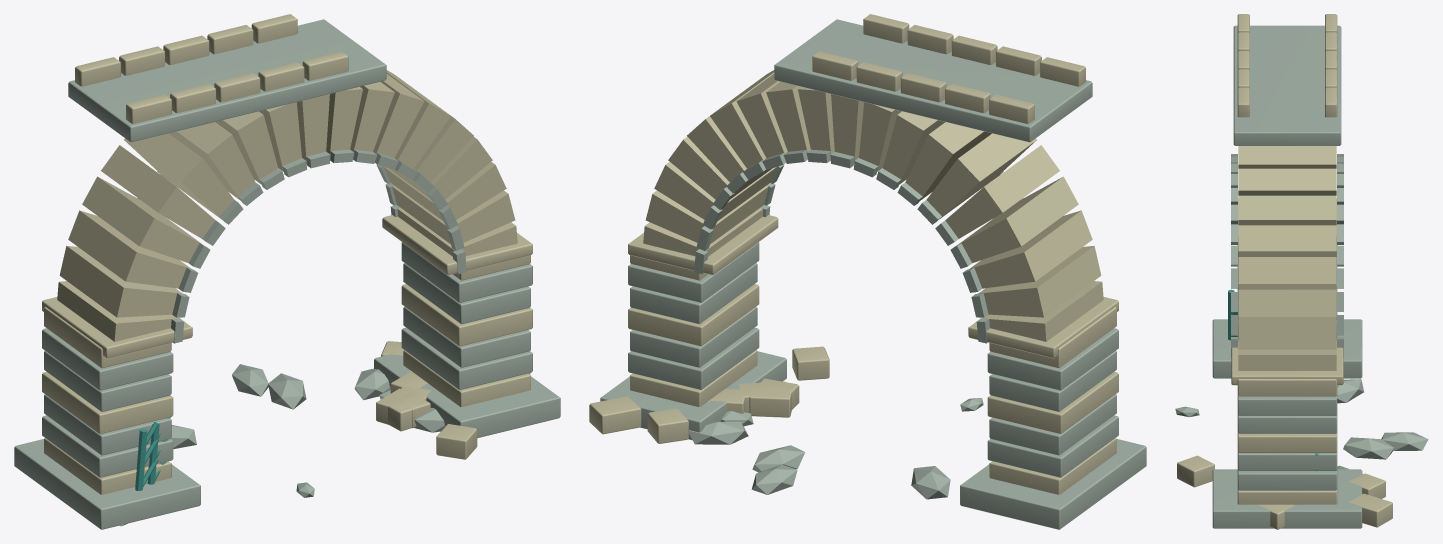
Rendered from world-arch.glb.
3 views of the same model, side by side, from view 1: azimuth 30°, elevation 25°; view 2: azimuth 150°, elevation 25°; view 3: azimuth 270°, elevation 25° (orthographic). The views are drawn at different scales.
Parts seen in each view (by area): view 1: world-arch / Old harbor sandstone, world-arch / Drowned limestone, world-arch / Copper verdigris; view 2: world-arch / Old harbor sandstone, world-arch / Drowned limestone; view 3: world-arch / Old harbor sandstone, world-arch / Drowned limestone.
Part boxes in pixels (x1,y1,x2,y2): world-arch / Old harbor sandstone: (42,14,532,494); world-arch / Drowned limestone: (14,19,560,529); world-arch / Copper verdigris: (135,417,170,490); world-arch / Old harbor sandstone: (589,14,1118,494); world-arch / Drowned limestone: (600,19,1146,529); world-arch / Old harbor sandstone: (1177,14,1392,529); world-arch / Drowned limestone: (1175,25,1428,528).
Size of the model in its own units: 14.8 by 12.35 by 8.12.
